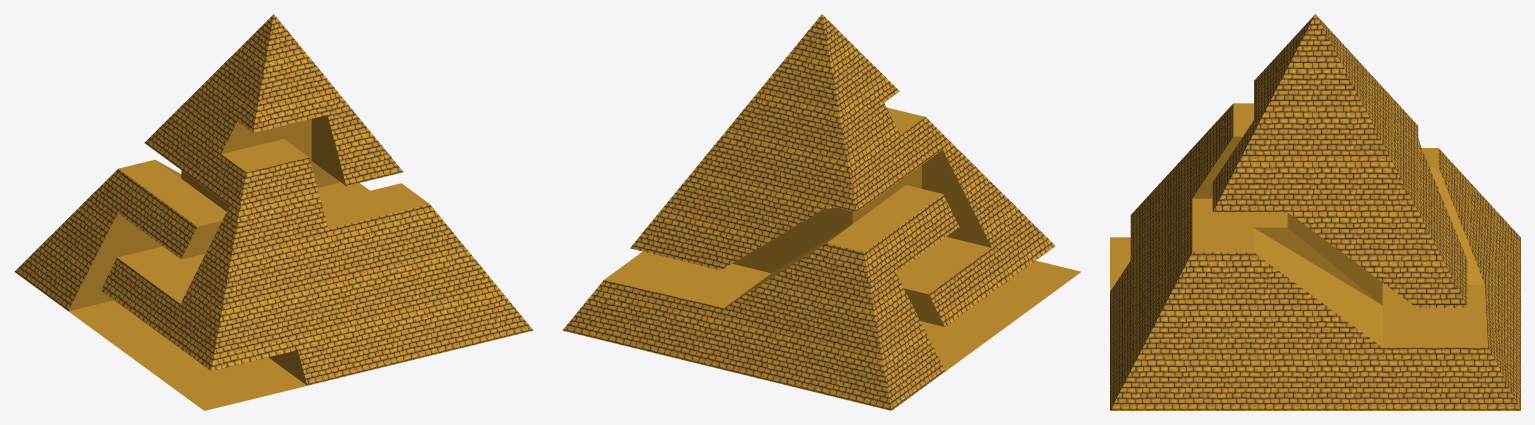
File: Piramide_basica.fbx
3 views of the same model, side by side, from view 1: azimuth 30°, elevation 25°; view 2: azimuth 150°, elevation 25°; view 3: azimuth 270°, elevation 25° (orthographic). The views are drawn at different scales.
Parts seen in each view (by area): view 1: Cube.004; view 2: Cube.004; view 3: Cube.004.
Boxes of the visible parts, x1,y1,x2,y2 form: Cube.004: (14, 14, 533, 410); Cube.004: (562, 14, 1081, 410); Cube.004: (1110, 14, 1520, 410).
Size of the model in its own units: 240 by 200 by 240.
